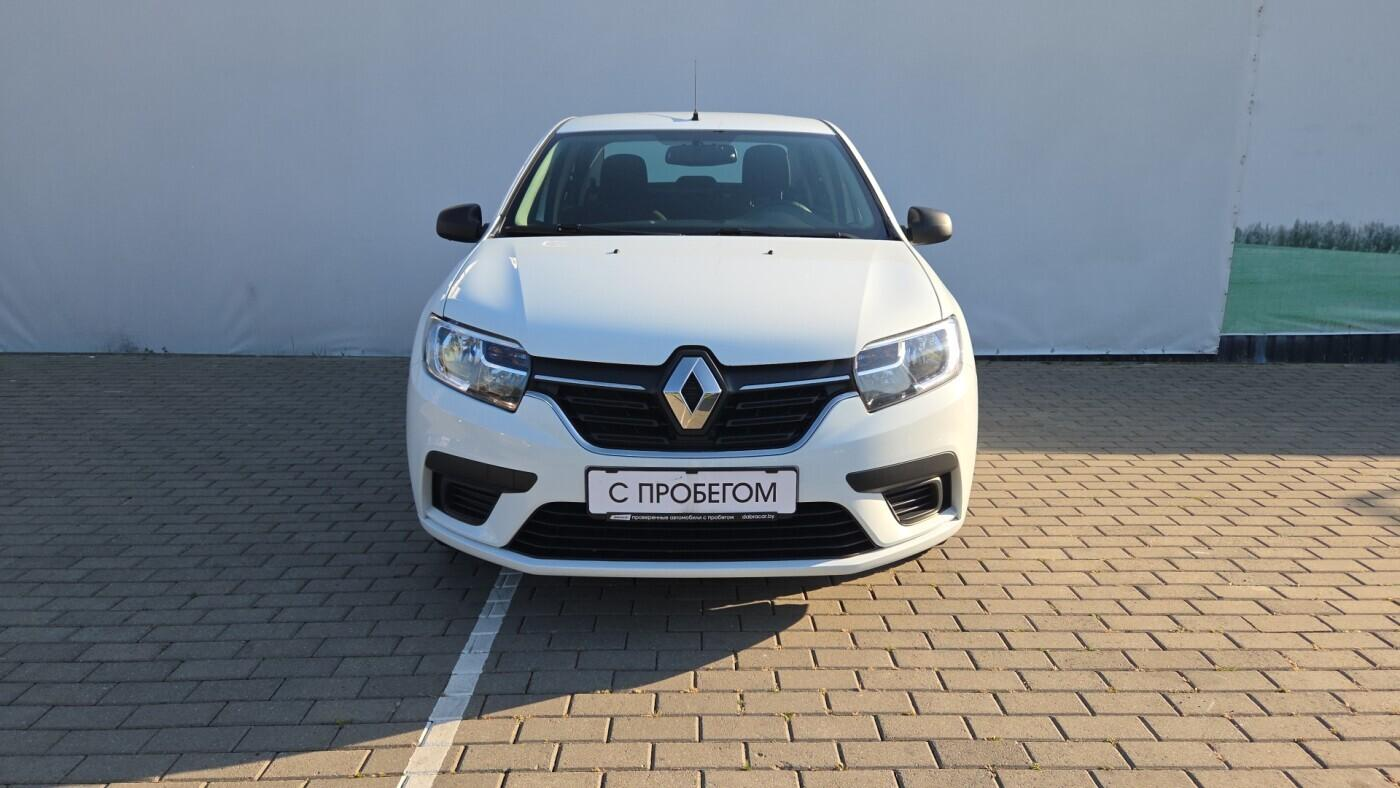Logan_2018: (401, 105, 981, 581)
